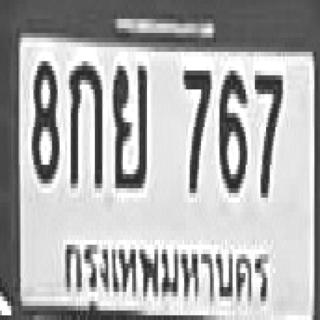A01: (67, 56, 100, 184)
A34: (111, 61, 145, 183)
N06: (218, 66, 246, 188)
N07: (253, 71, 281, 193), (181, 66, 209, 188)
N08: (30, 57, 58, 179)
P04: (59, 221, 270, 310)
